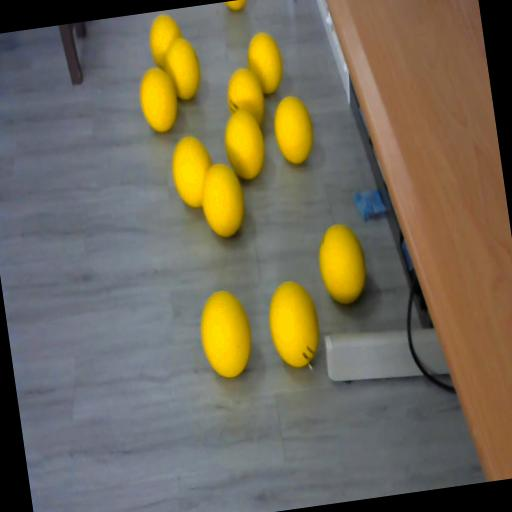FUEL: (194, 285, 256, 381), (262, 276, 324, 370), (314, 219, 370, 307), (196, 160, 250, 240), (221, 108, 270, 182), (270, 93, 318, 166), (136, 64, 182, 134), (161, 34, 205, 104), (244, 30, 286, 96), (225, 0, 249, 12)
